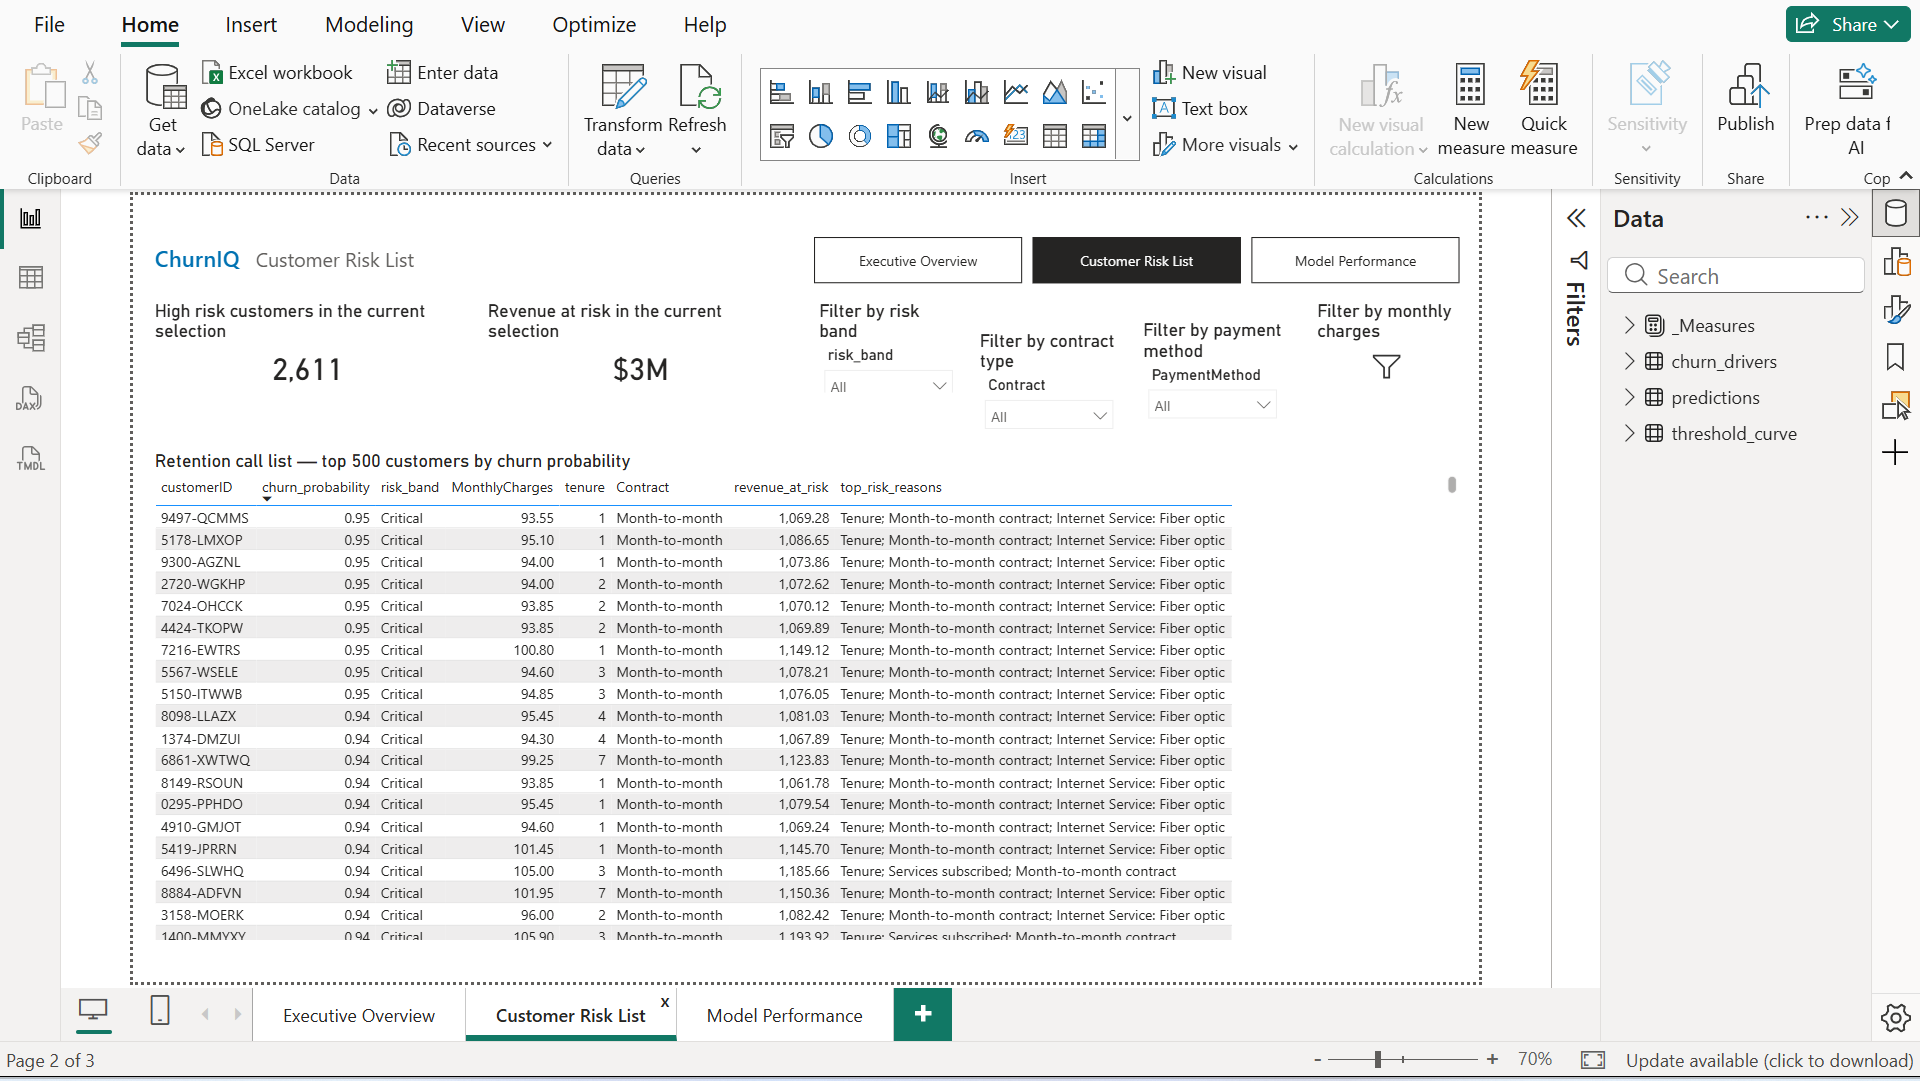

What the dashboard file says about the page in this screenshot:
{"tool":"powerbi","page":{"name":"Customer Risk List","canvas":[1280,720],"ordinal":1},"visuals":[{"type":"textbox","box":[16,12,458,44],"z":0},{"type":"pageNavigator","box":[648,12,616,44],"z":1000},{"type":"card","title":"High risk customers in the current selection","fields":{"Values":["_Measures.High Risk Customers"]},"box":[16,72,300,88],"z":2000},{"type":"card","title":"Revenue at risk in the current selection","fields":{"Values":["_Measures.Revenue at Risk"]},"box":[332,72,300,88],"z":3000},{"type":"slicer","title":"Filter by risk band","fields":{"Values":["predictions.risk_band"]},"box":[648,72,142,88],"z":4000},{"type":"slicer","title":"Filter by contract type","fields":{"Values":["predictions.Contract"]},"box":[800.5,99.7,141.8,113.8],"z":5000},{"type":"slicer","title":"Filter by payment method","fields":{"Values":["predictions.PaymentMethod"]},"box":[956.4,89.9,141.8,113.8],"z":6000},{"type":"slicer","title":"Filter by monthly charges","fields":{"Values":["predictions.MonthlyCharges"]},"box":[1122,72,142,88],"z":7000},{"type":"tableEx","title":"Retention call list — top 500 customers by churn probability","fields":{"Values":["predictions.customerID","Sum(predictions.churn_probability)","predictions.risk_band","predictions.MonthlyCharges","predictions.tenure","predictions.Contract","Sum(predictions.revenue_at_risk)","predictions.top_risk_reasons"]},"box":[15.4,213.5,1248.6,470.5],"z":8000}]}

Visuals, with their boxes on the page's 1280x720 design canvas (x1, y1, x2, y2). These are canvas units, not pixel positions in the 1920x1081 screenshot, which may show the page scaled, cropped or inside an application window:
textbox: select_region(16, 12, 474, 56)
pageNavigator: select_region(648, 12, 1264, 56)
"High risk customers in the current selection" card: select_region(16, 72, 316, 160)
"Revenue at risk in the current selection" card: select_region(332, 72, 632, 160)
"Filter by risk band" slicer: select_region(648, 72, 790, 160)
"Filter by contract type" slicer: select_region(800, 100, 942, 214)
"Filter by payment method" slicer: select_region(956, 90, 1098, 204)
"Filter by monthly charges" slicer: select_region(1122, 72, 1264, 160)
"Retention call list — top 500 customers by churn probability" tableEx: select_region(15, 214, 1264, 684)
